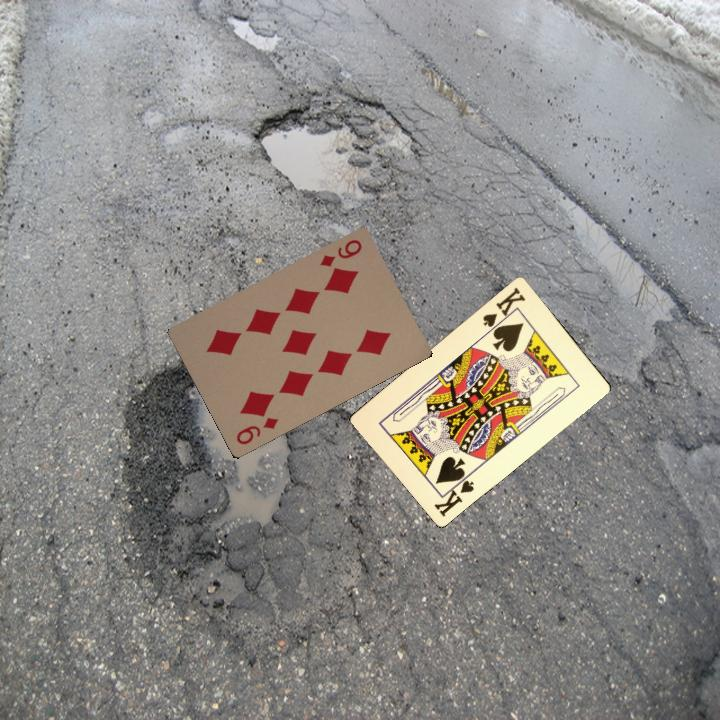9d: (232, 413, 281, 447), (316, 235, 364, 269)
Ks: (478, 283, 528, 333), (430, 470, 477, 519)
